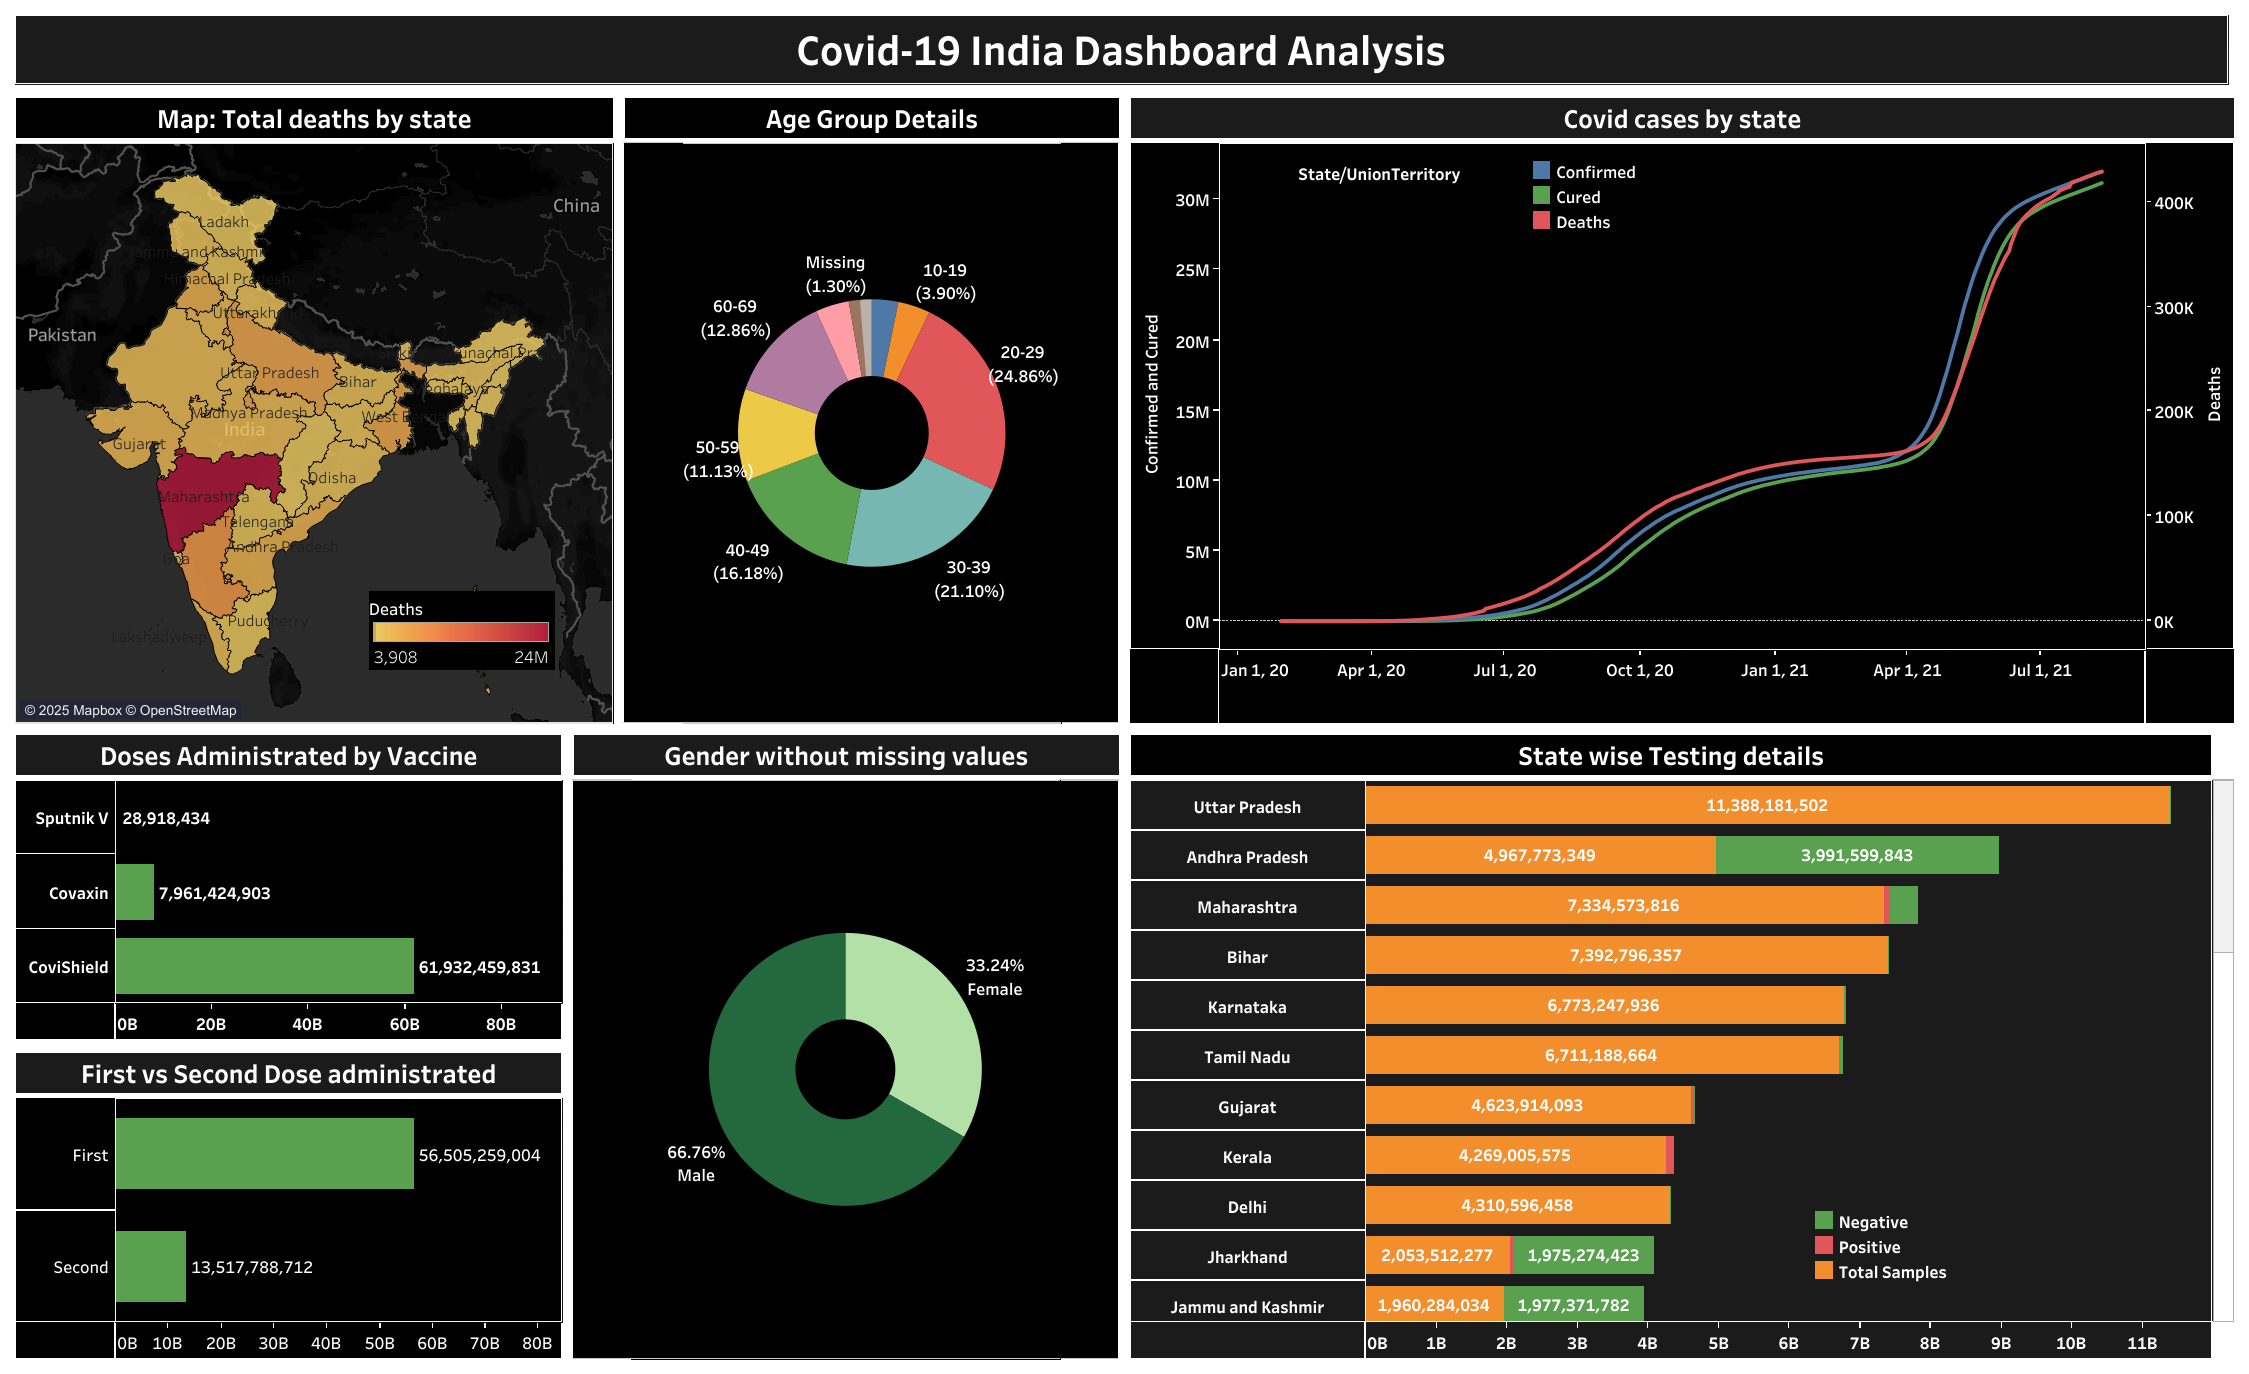

What the dashboard file says about the page in this screenshot:
{"tool":"tableau","page":{"name":"Dashboard 1","canvas":[1800,1100],"ordinal":0},"visuals":[{"type":"worksheet","title":"Title","mark":"Automatic","box":[8,8,1784,65]},{"type":"worksheet","title":"Map: Total deaths by state","mark":"Automatic","box":[8,73,487,509.5]},{"type":"worksheet","title":"Age Group Details","mark":"Pie","rows":["Calculation_1481965810427990019","Calculation_1481965810427990019"],"box":[495,73,405,509.5]},{"type":"worksheet","title":"Covid cases by state","mark":"Automatic","rows":["Deaths"],"cols":["Date"],"box":[900,73,892,509.5]},{"type":"legend","title":"Covid cases by state","param":"[federated.14bg1e60xj5vn9156swjb0fzshv4].[:Measure Names]","box":[1223,126,140,72]},{"type":"filter","title":"Covid cases by state","param":"[federated.14bg1e60xj5vn9156swjb0fzshv4].[none:State/UnionTerritory:nk]","box":[1003,128,201,64]},{"type":"legend","title":"Map: Total deaths by state","param":"[federated.14bg1e60xj5vn9156swjb0fzshv4].[sum:Deaths:qk]","box":[295,473,149,97]},{"type":"worksheet","title":"Doses Administrated by Vaccine","mark":"Automatic","box":[8,582.5,446,254.7]},{"type":"worksheet","title":"Gender without missing values","mark":"Pie","rows":["Calculation_1481965810430468101","Calculation_1481965810430468101"],"box":[454,582.5,446,509.5]},{"type":"worksheet","title":"State wise Testing details","mark":"Automatic","rows":["State"],"box":[900,582.5,892,509.5]},{"type":"worksheet","title":"First vs Second Dose administrated","mark":"Automatic","box":[8,837.3,446,254.7]},{"type":"legend","title":"State wise Testing details","param":"[federated.1aw17we11xuoee162272s15rd4o1].[:Measure Names]","box":[1449,966,143,69]}]}

Visuals, with their boxes in screenshot pixels (x1, y1, x2, y2), scaled from the page's 1800x1100 canvas onto the 2249x1374 screenshot:
"Title" worksheet: box=[10, 10, 2239, 91]
"Map: Total deaths by state" worksheet: box=[10, 91, 618, 728]
"Age Group Details" worksheet (Pie marks): box=[618, 91, 1124, 728]
"Covid cases by state" worksheet: box=[1124, 91, 2239, 728]
"Covid cases by state" legend: box=[1528, 157, 1703, 247]
"Covid cases by state" filter: box=[1253, 160, 1504, 240]
"Map: Total deaths by state" legend: box=[369, 591, 555, 712]
"Doses Administrated by Vaccine" worksheet: box=[10, 728, 567, 1046]
"Gender without missing values" worksheet (Pie marks): box=[567, 728, 1124, 1364]
"State wise Testing details" worksheet: box=[1124, 728, 2239, 1364]
"First vs Second Dose administrated" worksheet: box=[10, 1046, 567, 1364]
"State wise Testing details" legend: box=[1810, 1207, 1989, 1293]
